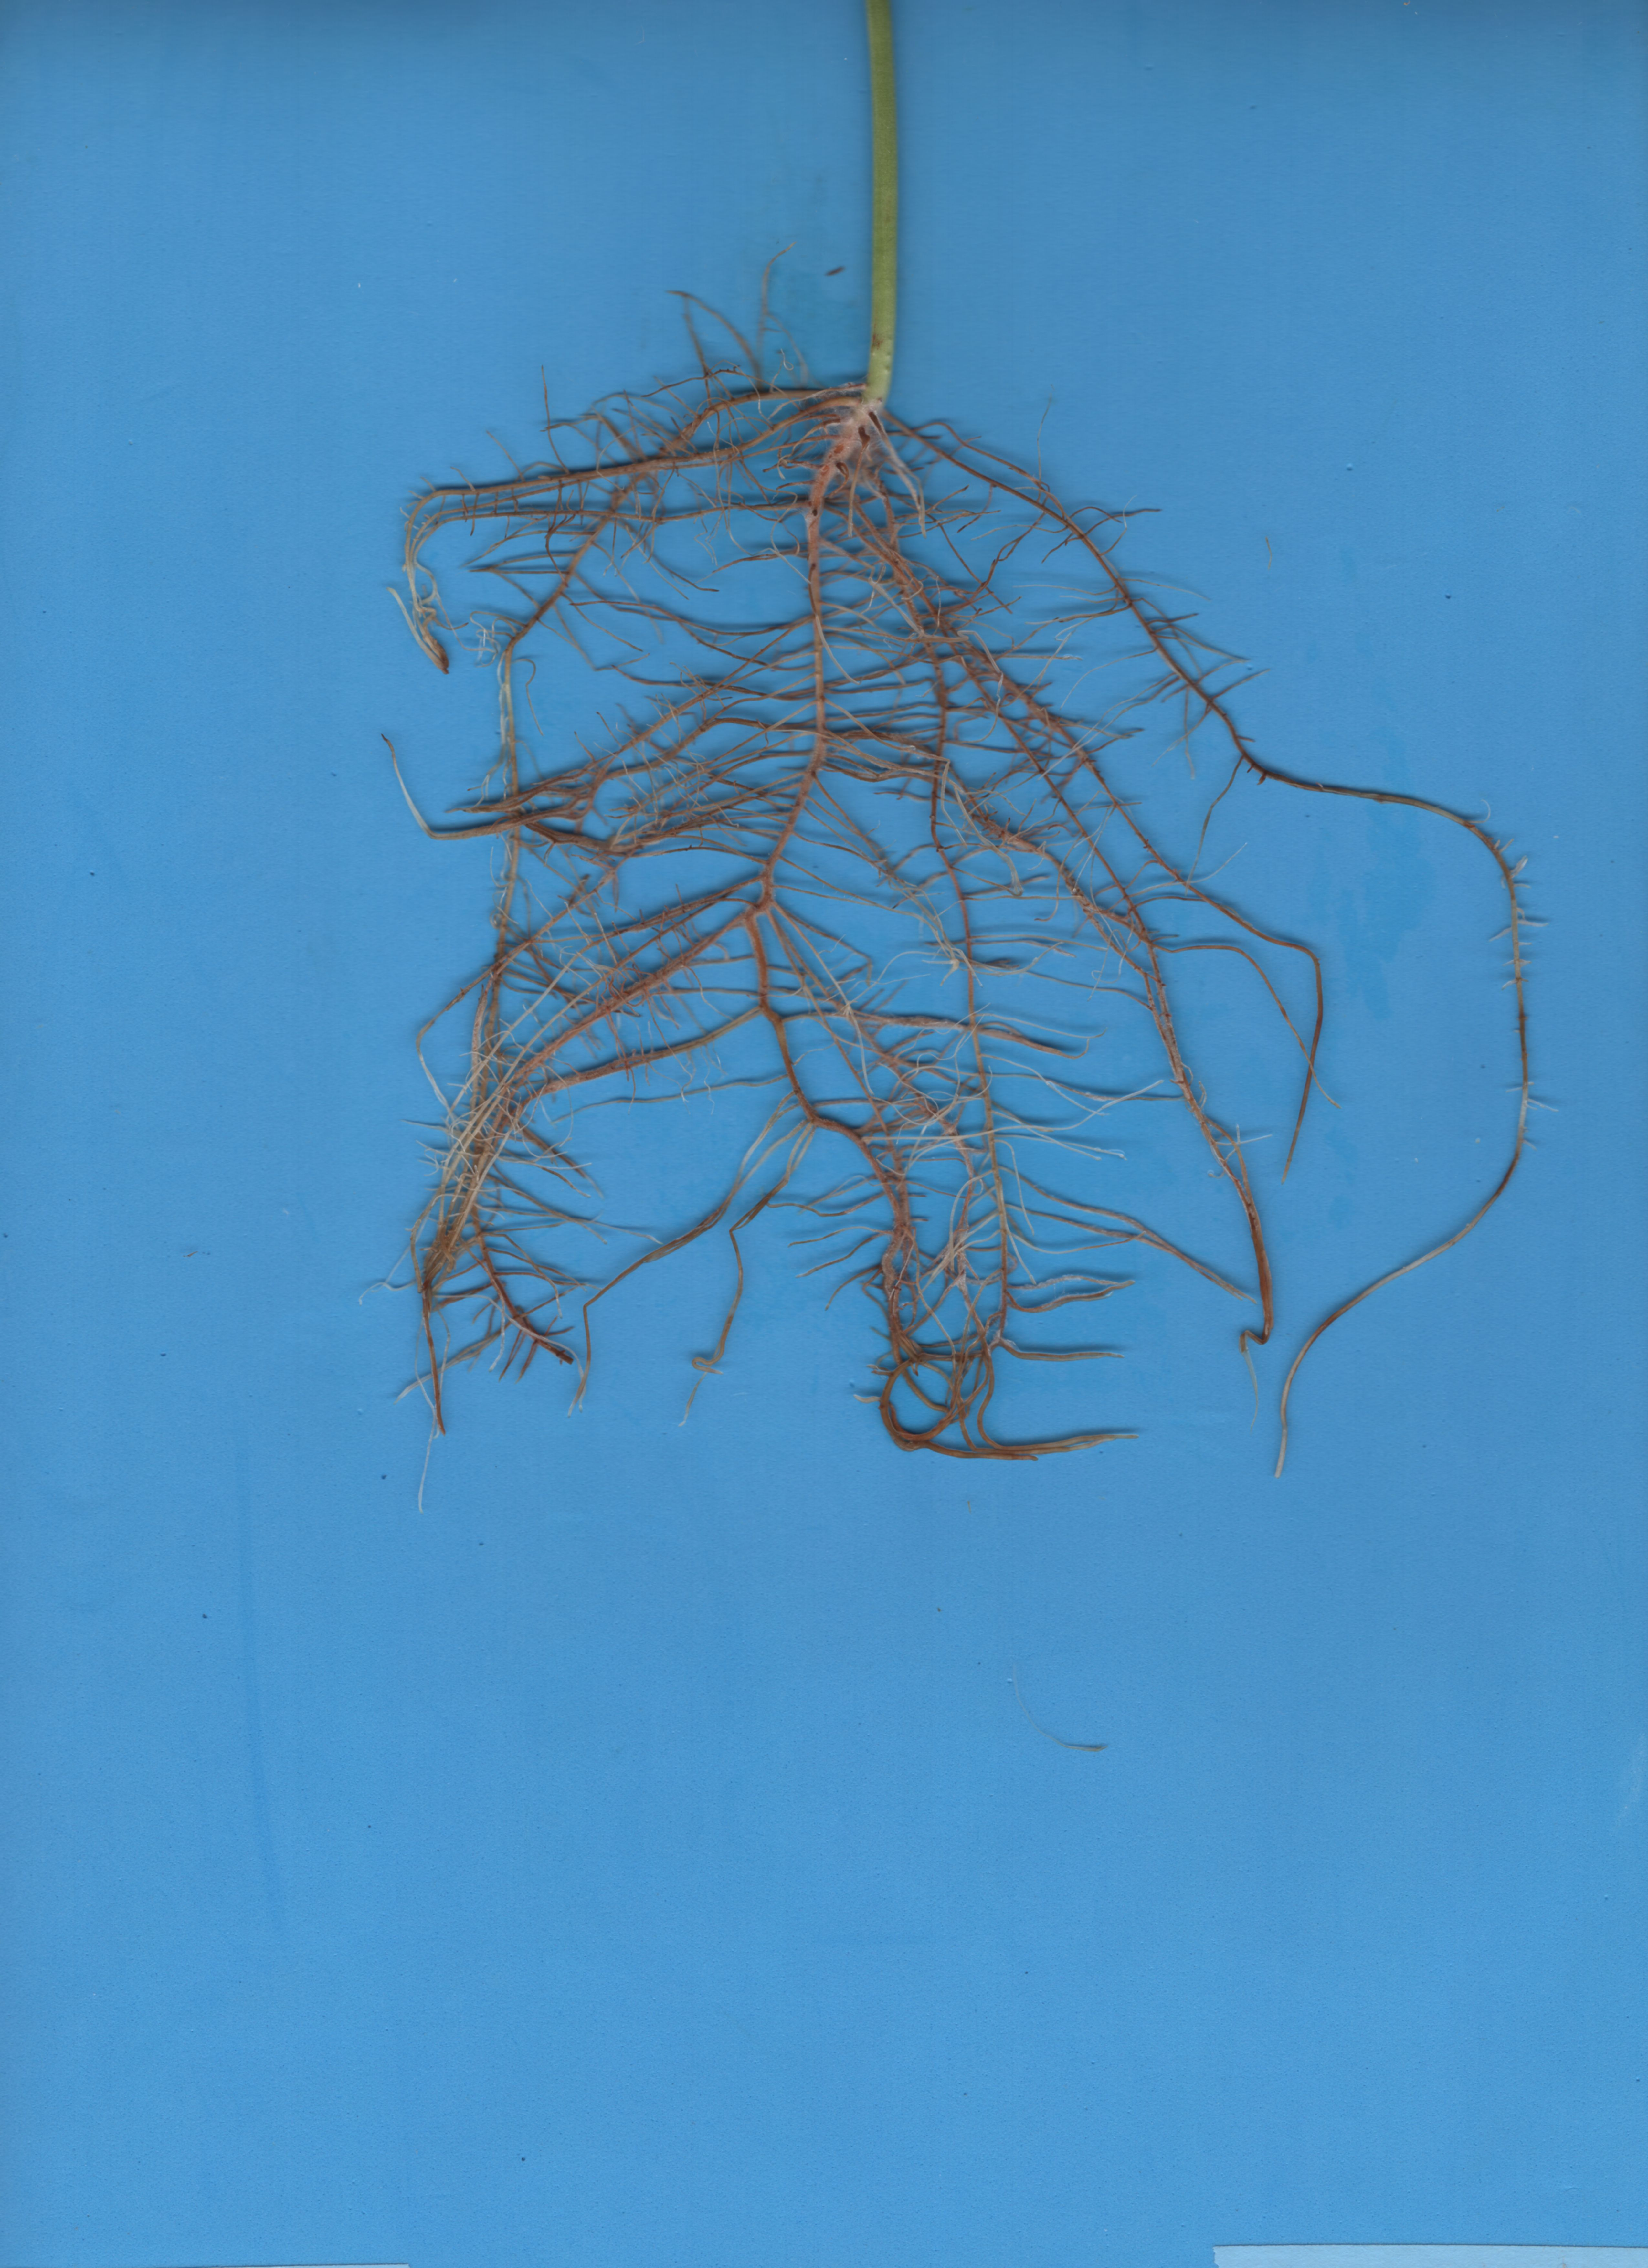CROWNGOOD: (778, 11, 953, 490)
ROOTDISEASE: (211, 347, 1636, 1425)
